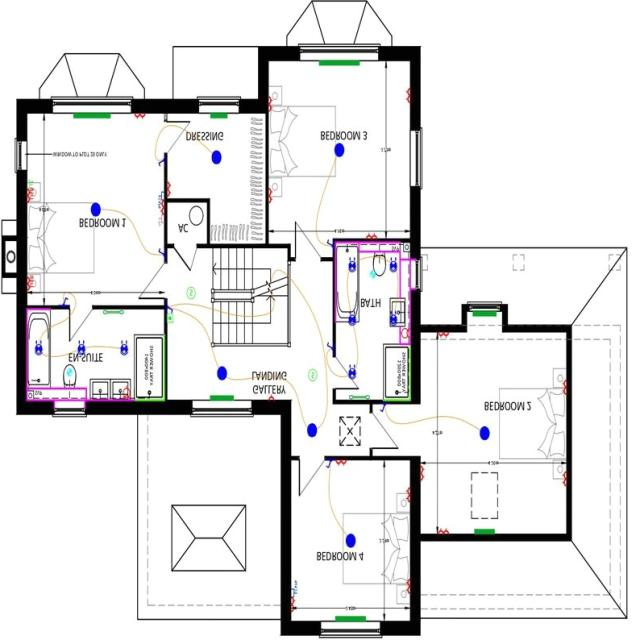Cat 6 Data Socket: (156, 192, 164, 210), (290, 581, 298, 598)
Ceiling Mounted Continuous Extract FanWith Boost Mode Activated By Light Switch: (369, 272, 376, 279), (66, 369, 72, 377)
Co-Ax TV Socket: (157, 216, 163, 227)
Double Socket: (419, 466, 425, 482), (404, 488, 410, 503), (404, 88, 410, 103), (404, 580, 410, 594), (158, 202, 164, 216), (365, 233, 377, 240), (166, 182, 171, 198), (335, 461, 346, 468), (561, 472, 566, 487), (561, 380, 566, 395), (437, 529, 448, 535), (437, 333, 448, 339), (290, 599, 295, 612), (268, 189, 272, 204), (268, 97, 272, 112), (134, 115, 144, 120)
Full Height Tiling: (136, 337, 163, 402), (383, 346, 409, 402)
Light Switch: (60, 298, 68, 306), (325, 462, 332, 469), (166, 307, 173, 314), (379, 406, 385, 414), (326, 344, 332, 352), (157, 249, 163, 257), (157, 160, 163, 168), (327, 240, 332, 248)
Low Energy Downlighter: (346, 258, 356, 273), (76, 341, 85, 356), (348, 365, 356, 381), (34, 341, 42, 356), (120, 341, 128, 356), (389, 312, 397, 327), (348, 312, 356, 327), (388, 258, 396, 273)
Low Energy Pendant Light: (479, 426, 489, 442), (306, 424, 317, 438), (216, 367, 227, 381), (345, 534, 355, 549), (90, 203, 100, 218), (210, 152, 221, 165), (334, 143, 343, 158)
Mains Wired Smoke Detector: (307, 370, 317, 383), (185, 288, 195, 300)
Programmable Room Thermostat: (166, 315, 173, 324)
Radiator: (72, 114, 110, 120), (318, 61, 359, 66), (335, 617, 365, 622), (209, 396, 233, 402), (472, 312, 496, 318), (473, 530, 494, 535), (210, 114, 227, 120)
Shaver Socket: (122, 386, 130, 402), (399, 329, 409, 339)
Single Socket: (268, 395, 273, 401)
Telephone Socket: (26, 180, 33, 188)
USB Double Socket: (26, 276, 34, 292), (26, 189, 33, 204)
